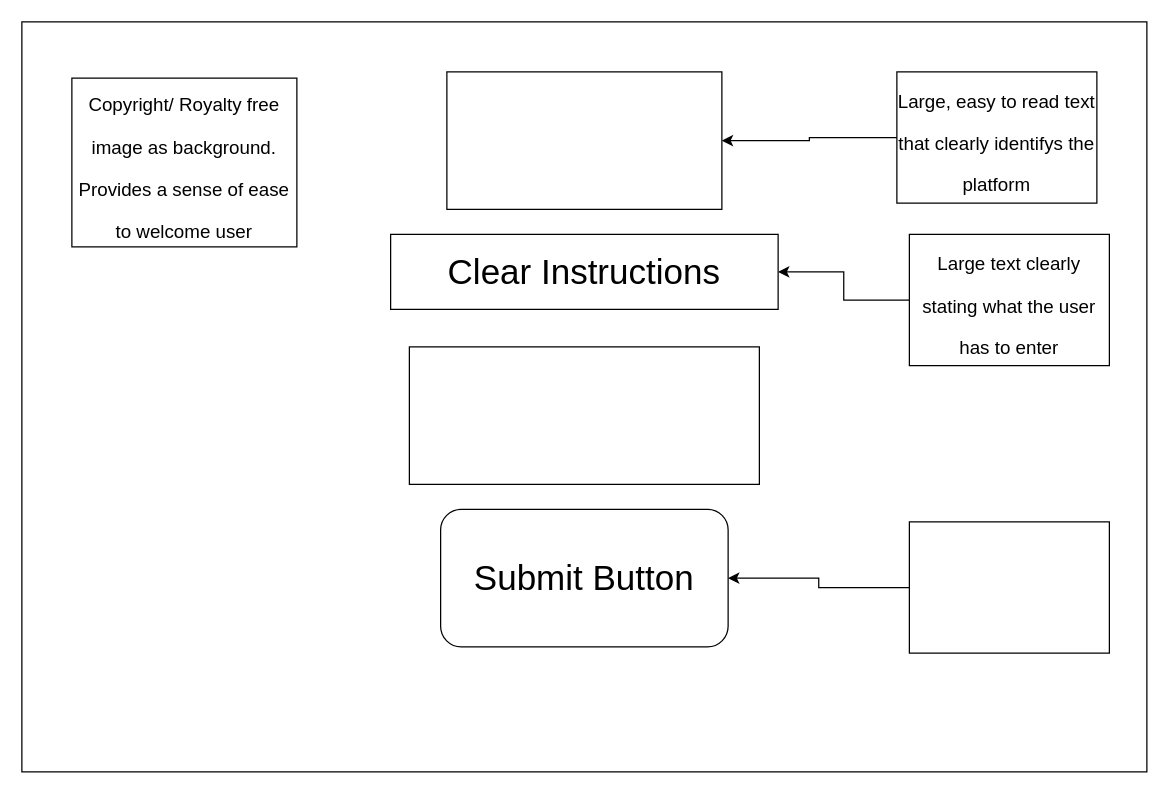
This 1169x794 diagram has some shape labels left out. Here are the shapes that lost their labels. From the top down, the box of each, then its label:
(446, 71, 722, 209): Platform Name
(408, 346, 759, 484): Text Input Box
(908, 521, 1109, 653): Large, easy to read button
